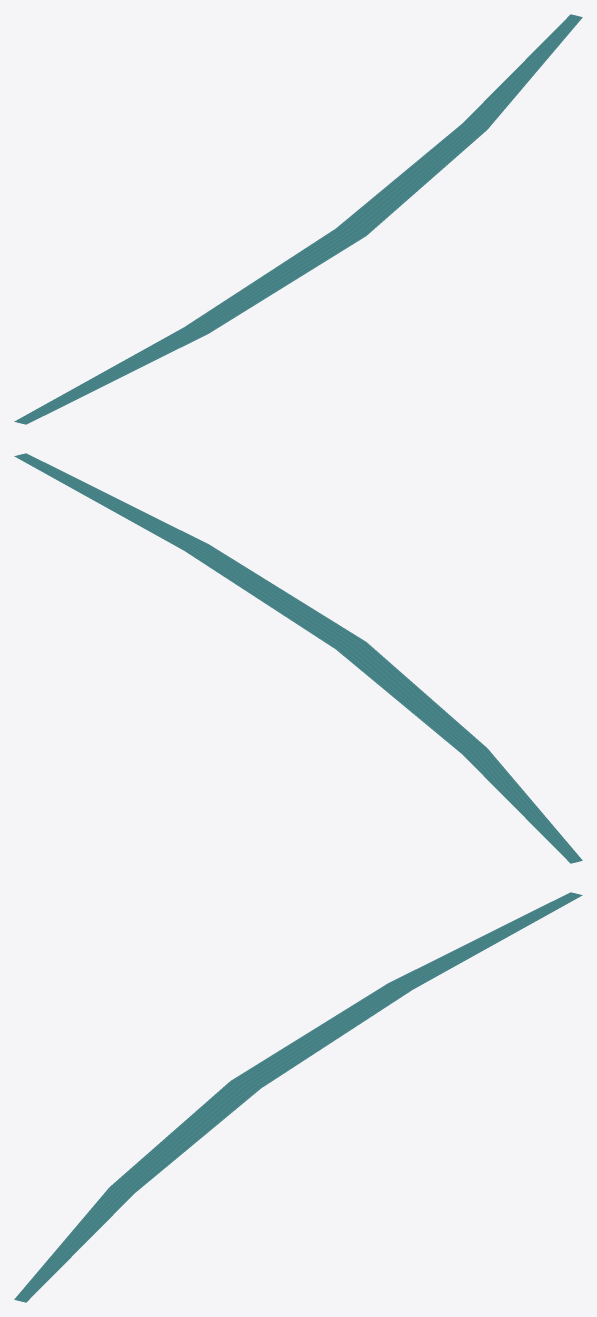
File: hex_river_overlay_turn_120.glb
The picture shows the model from 3 angles, top to bottom: view 1: azimuth 90°, elevation 25°; view 2: azimuth 150°, elevation 25°; view 3: azimuth 270°, elevation 25°; orthographic projection.
Parts seen in each view (by area): view 1: Ambient interior water shimmer; view 2: Ambient interior water shimmer; view 3: Ambient interior water shimmer.
Part boxes in pixels (x1,y1,x2,y2): Ambient interior water shimmer: [14, 14, 582, 424]; Ambient interior water shimmer: [14, 453, 582, 863]; Ambient interior water shimmer: [14, 892, 582, 1302].
Size of what is drawn, in the model's own units: 0.1919 by 0 by 0.1124.
1 material, 1 textured.
